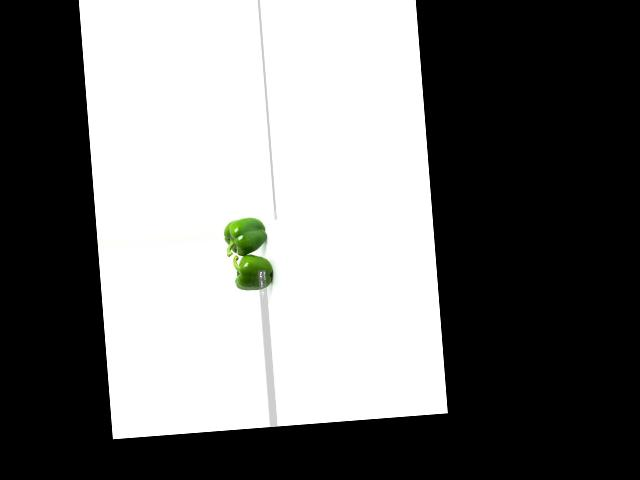bell_pepper: (220, 216, 273, 256)
